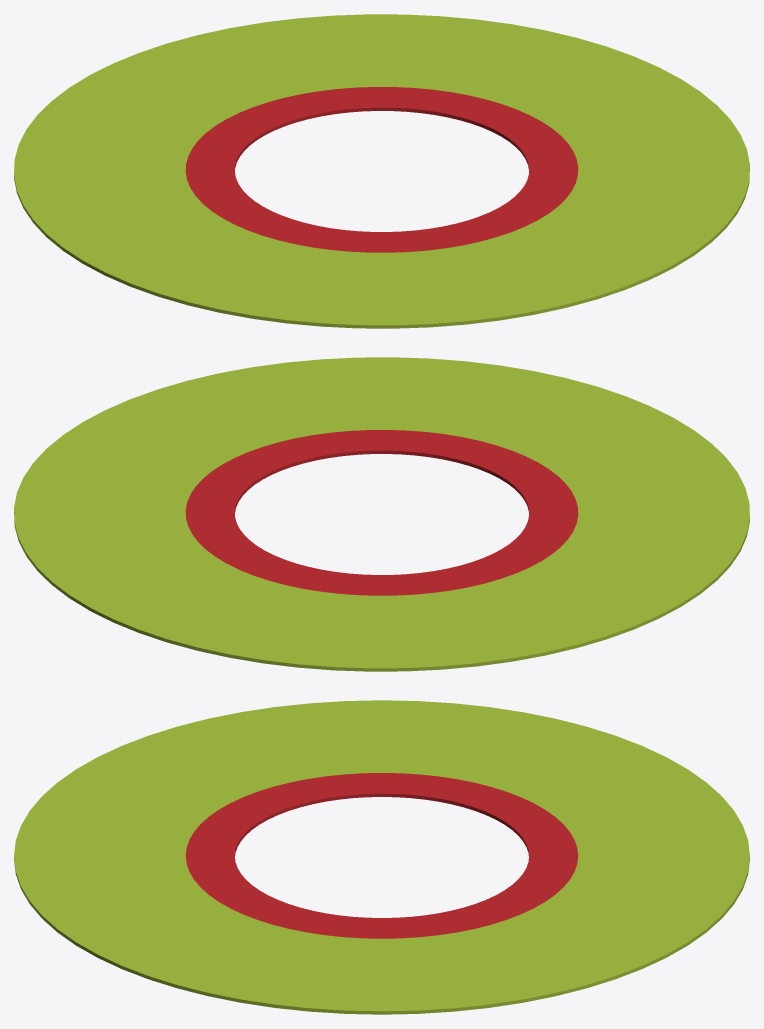
File: flare_stack_temperature.glb
The picture shows the model from 3 angles, top to bottom: view 1: azimuth 30°, elevation 25°; view 2: azimuth 150°, elevation 25°; view 3: azimuth 270°, elevation 25°; orthographic projection.
Parts seen in each view (by area): view 1: temperature__front, temperature__back; view 2: temperature__back, temperature__front; view 3: temperature__back, temperature__front.
Part boxes in pixels (x1,y1,x2,y2): temperature__front: [63, 92, 749, 328]; temperature__back: [14, 14, 700, 250]; temperature__back: [14, 435, 700, 671]; temperature__front: [63, 357, 749, 593]; temperature__back: [382, 700, 749, 1014]; temperature__front: [14, 700, 381, 1014].
Size of the model in its own units: 6 by 0.03 by 6.
